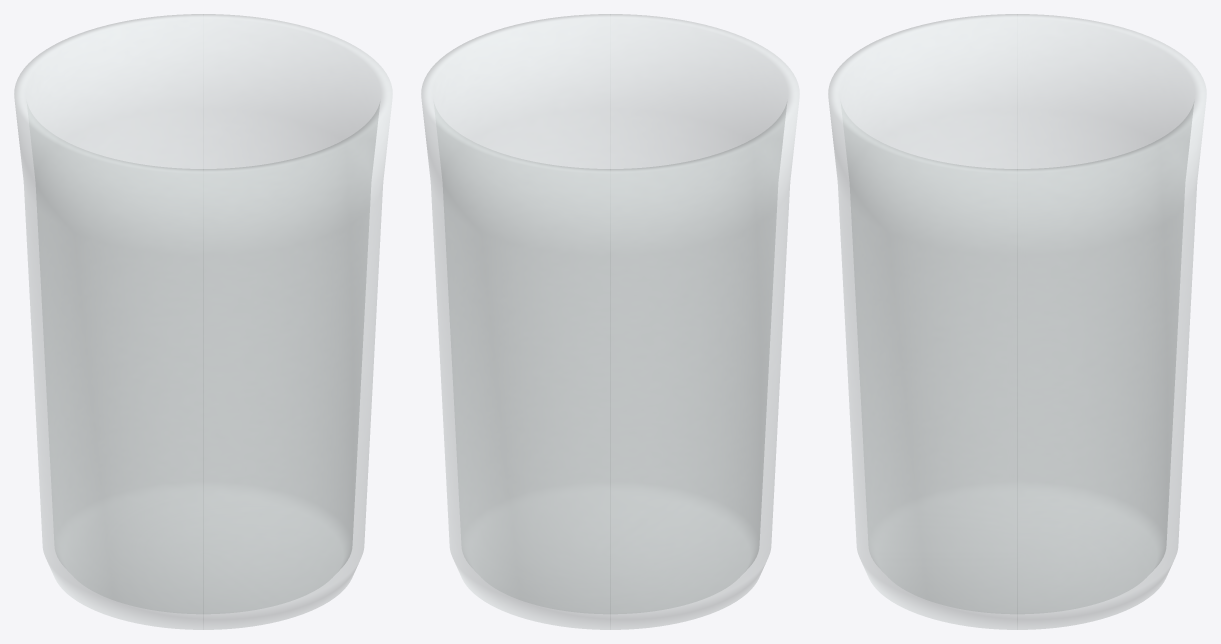
Rendered from intact.glb.
The picture shows the model from 3 angles, left to right: view 1: azimuth 30°, elevation 25°; view 2: azimuth 150°, elevation 25°; view 3: azimuth 270°, elevation 25°; orthographic projection.
Visible parts, largest first — view 1: glass-cup-component-000-clear; view 2: glass-cup-component-000-clear; view 3: glass-cup-component-000-clear.
Part boxes in pixels (left/top/right/bottom): glass-cup-component-000-clear: left=14, top=14, right=392, bottom=629; glass-cup-component-000-clear: left=421, top=14, right=799, bottom=629; glass-cup-component-000-clear: left=828, top=14, right=1206, bottom=629.
Size of the model in its own units: 0.08 by 0.11 by 0.08.
Materials: 1 (1 with a texture image).
